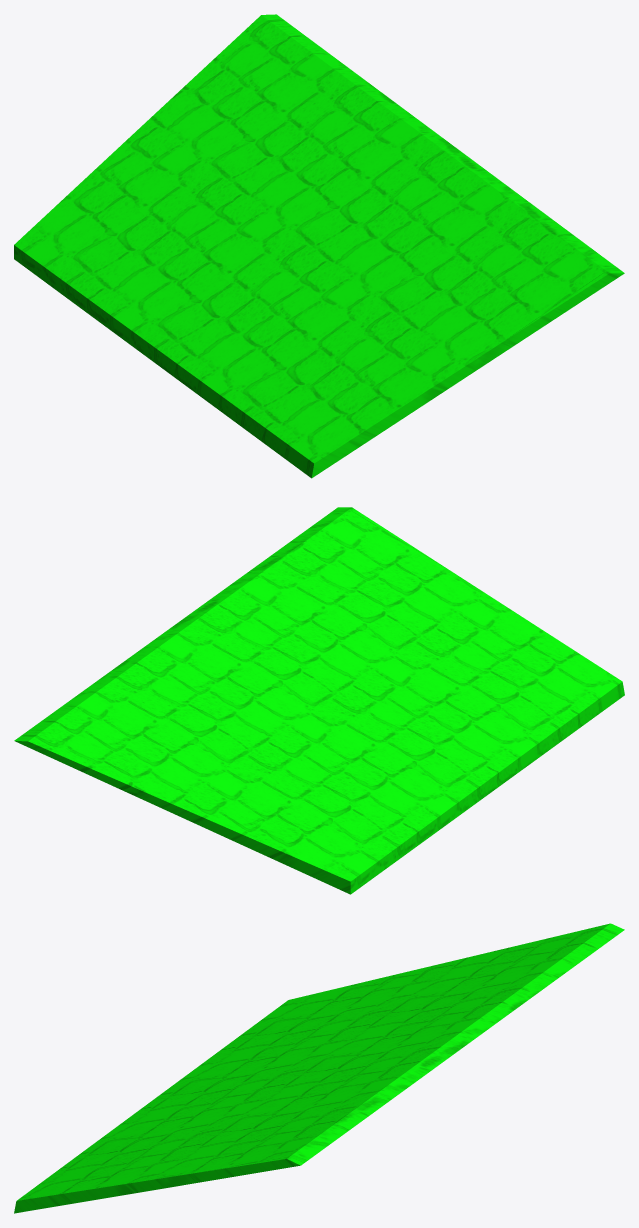
3 renders of one model, top to bottom at view 1: azimuth 30°, elevation 25°; view 2: azimuth 150°, elevation 25°; view 3: azimuth 330°, elevation 25°, orthographic. The views are drawn at different scales.
Parts seen in each view (by area): view 1: 작은지붕; view 2: 작은지붕; view 3: 작은지붕.
Boxes of the visible parts, <box> form: 작은지붕: <box>14,14,624,478</box>; 작은지붕: <box>14,507,624,894</box>; 작은지붕: <box>14,923,624,1213</box>.
Size of the model in its own units: 159 by 63.99 by 306.
